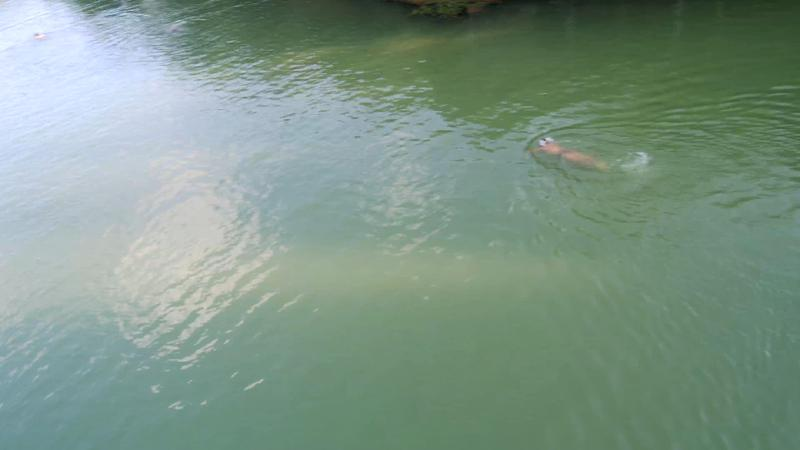swimmers: (525, 135, 612, 176)
